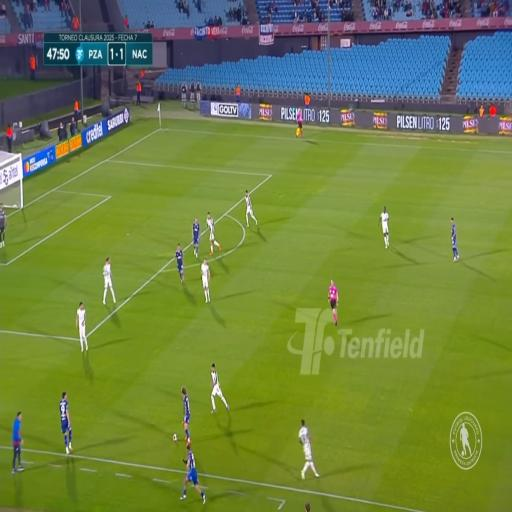Ball: (172, 433, 178, 445)
Goalkeeper: (0, 193, 8, 253)
Player: (57, 386, 78, 460), (300, 416, 315, 481), (102, 252, 117, 310), (78, 299, 91, 361), (179, 386, 191, 449), (211, 359, 223, 413), (244, 190, 258, 230), (201, 261, 213, 305), (177, 247, 188, 293), (207, 210, 217, 259), (449, 213, 458, 263), (382, 204, 392, 248), (188, 449, 197, 497), (193, 215, 199, 265)
Referee: (326, 276, 340, 326), (297, 109, 304, 142)
